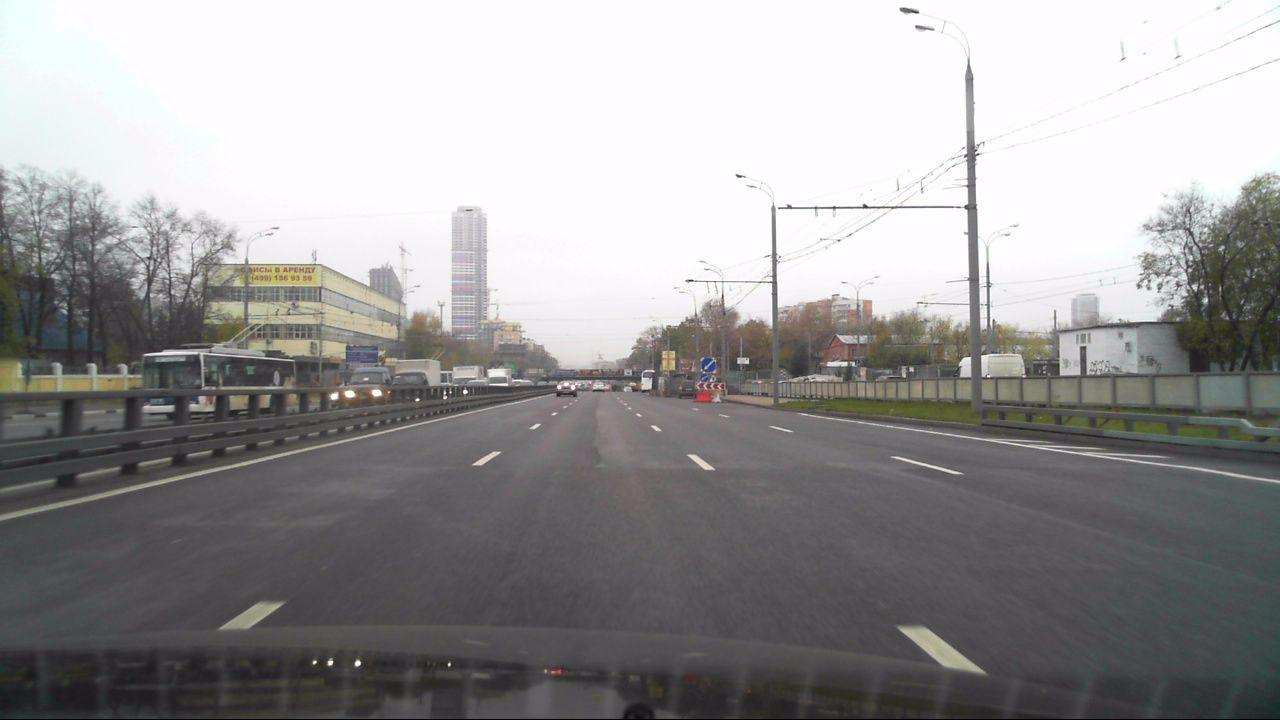road_sign: (695, 381, 726, 390), (702, 357, 715, 373)
